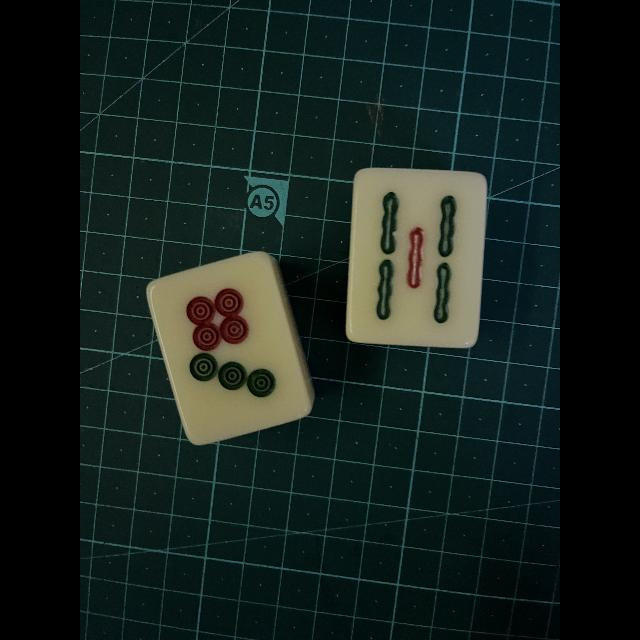b5: (351, 170, 477, 342)
d7: (162, 269, 296, 429)
